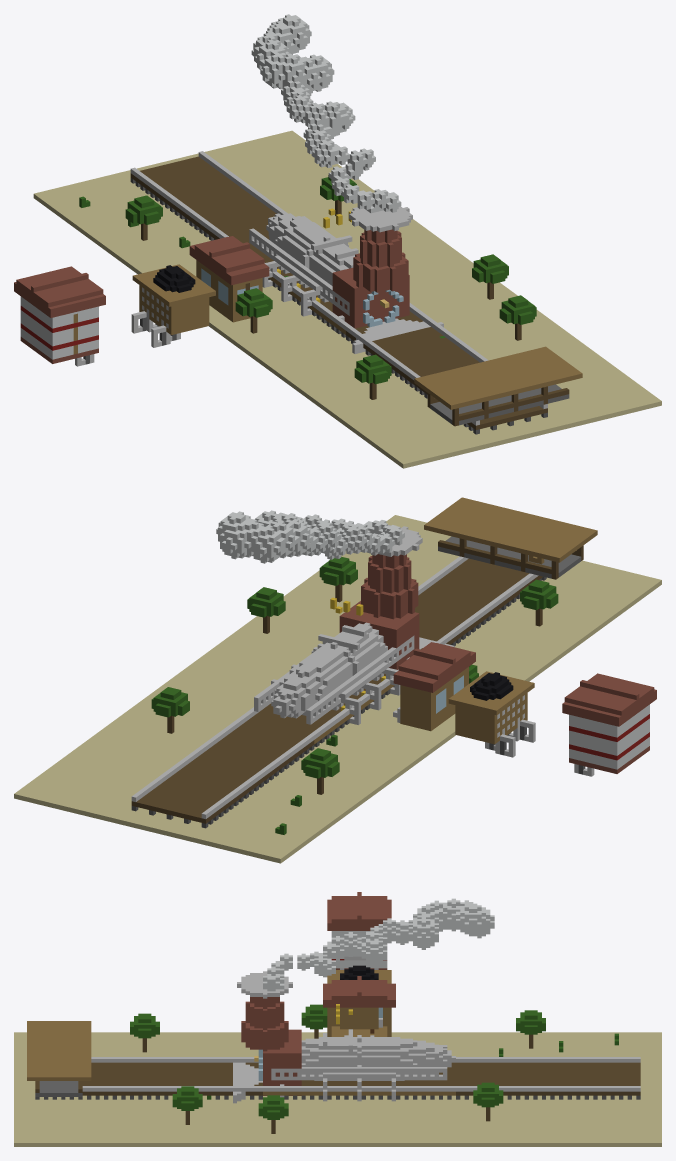
The picture shows the model from 3 angles, top to bottom: view 1: azimuth 30°, elevation 25°; view 2: azimuth 150°, elevation 25°; view 3: azimuth 270°, elevation 25°; orthographic projection. The views are drawn at different scales.
Size of the model in its own units: 102 by 50 by 151.
